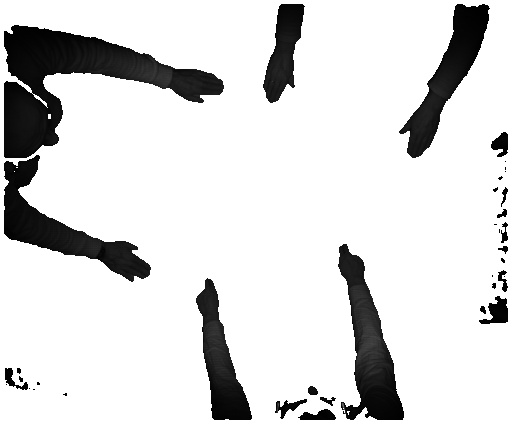hand: (392, 104, 441, 159), (103, 233, 151, 287), (173, 68, 223, 103), (192, 272, 223, 322), (265, 52, 295, 103), (336, 240, 367, 283)
